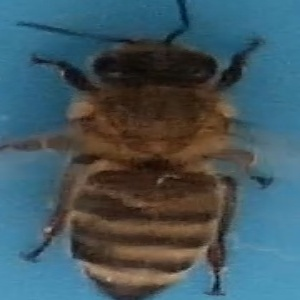bee: (22, 20, 282, 298)
